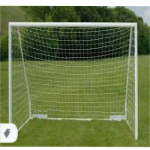goals: (6, 18, 140, 140)
